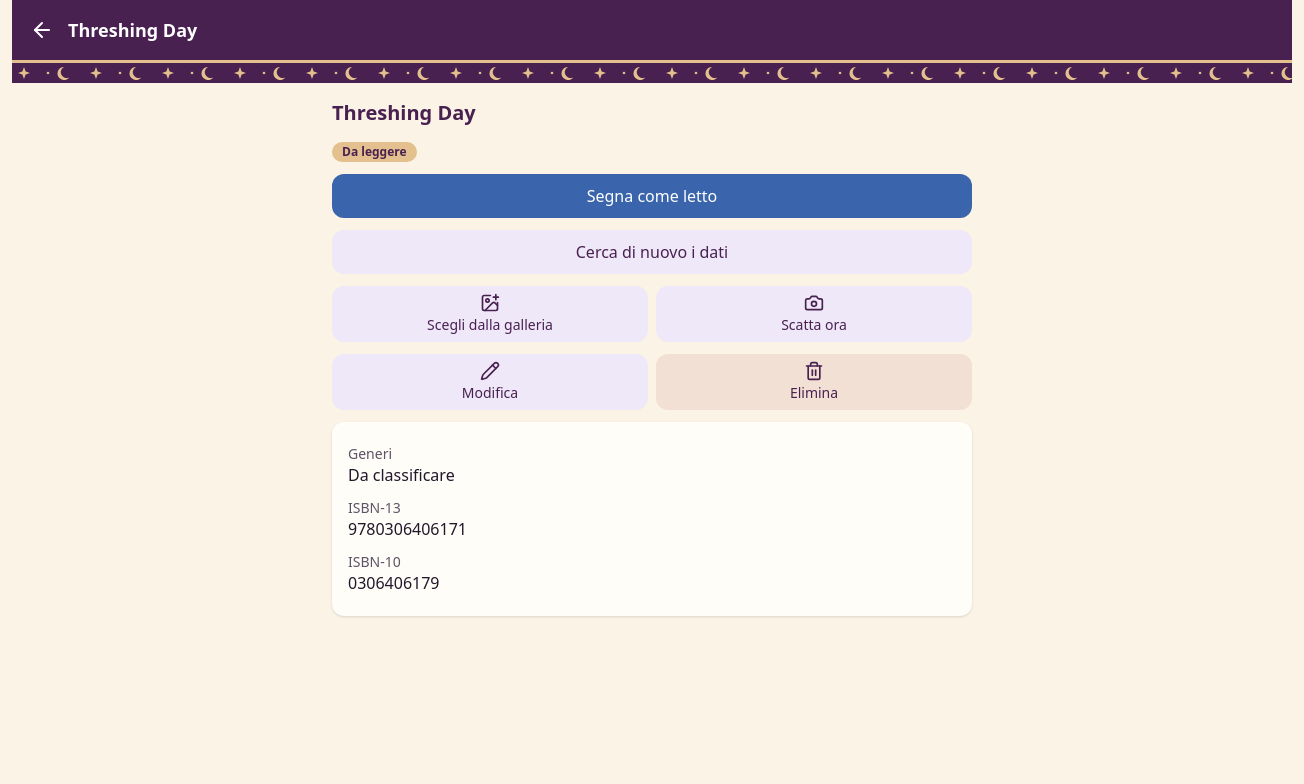
Scenario: app › dalla scheda si scelgono a mano più generi e si salvano
This screenshot has width=1304, height=784.
Click the button "Modifica" at x=490, y=382, box [332,354,648,410]
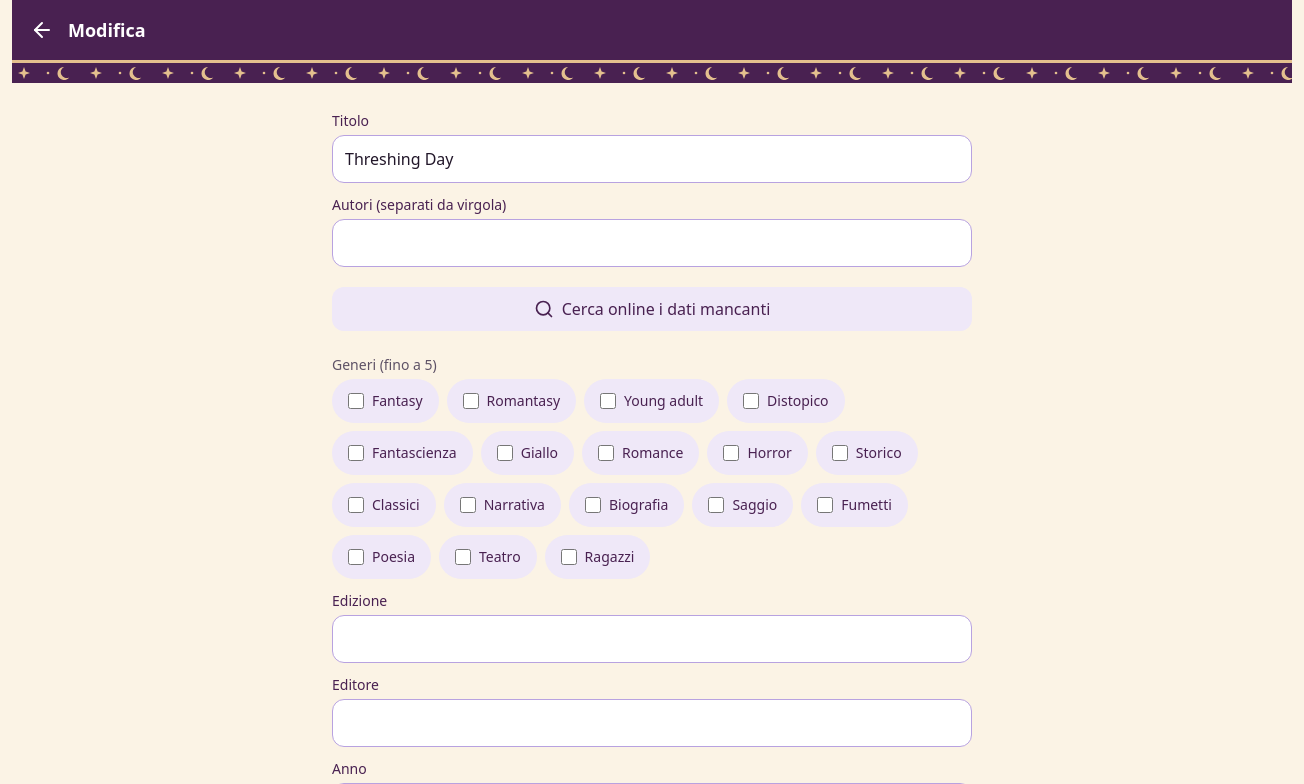
Click the checkbox labelled "Fantasy" at x=356, y=401, box [348,393,364,409]
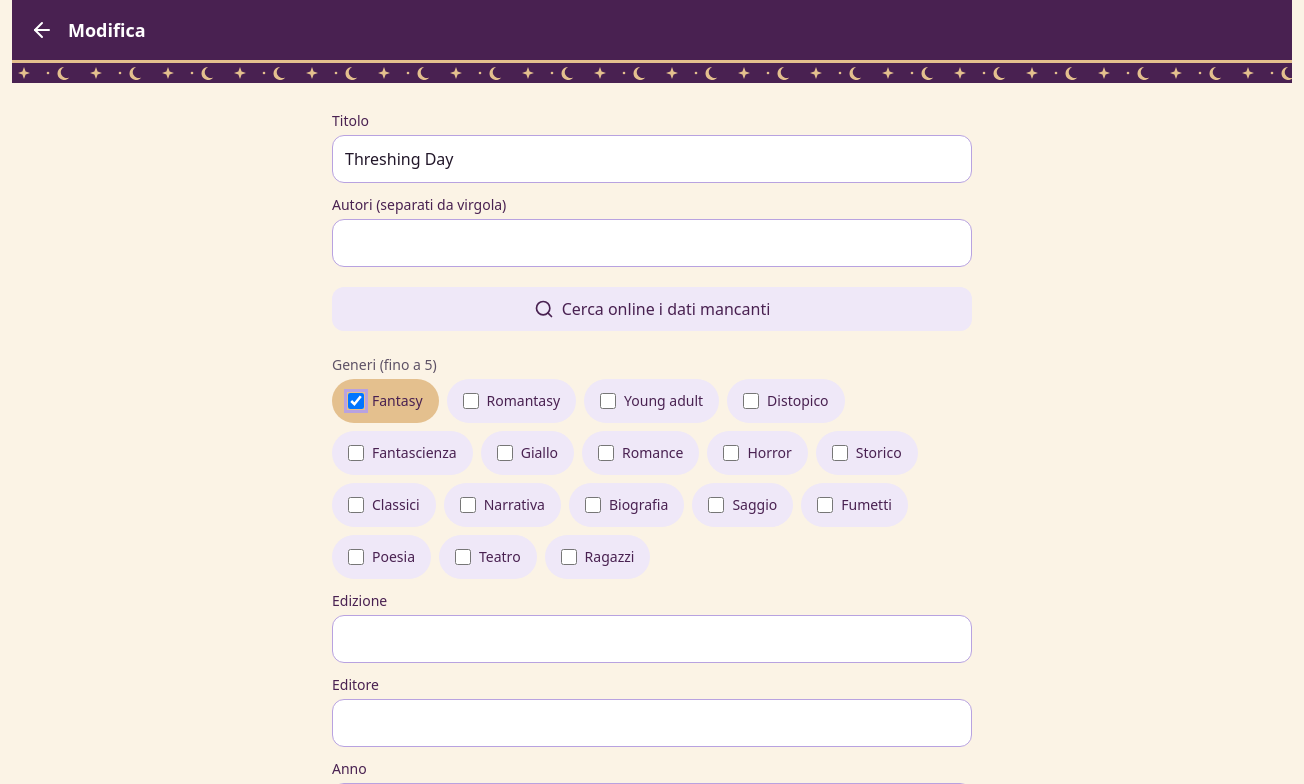
Click the checkbox labelled "Romantasy" at x=470, y=401, box [462,393,478,409]
(page scrolled)
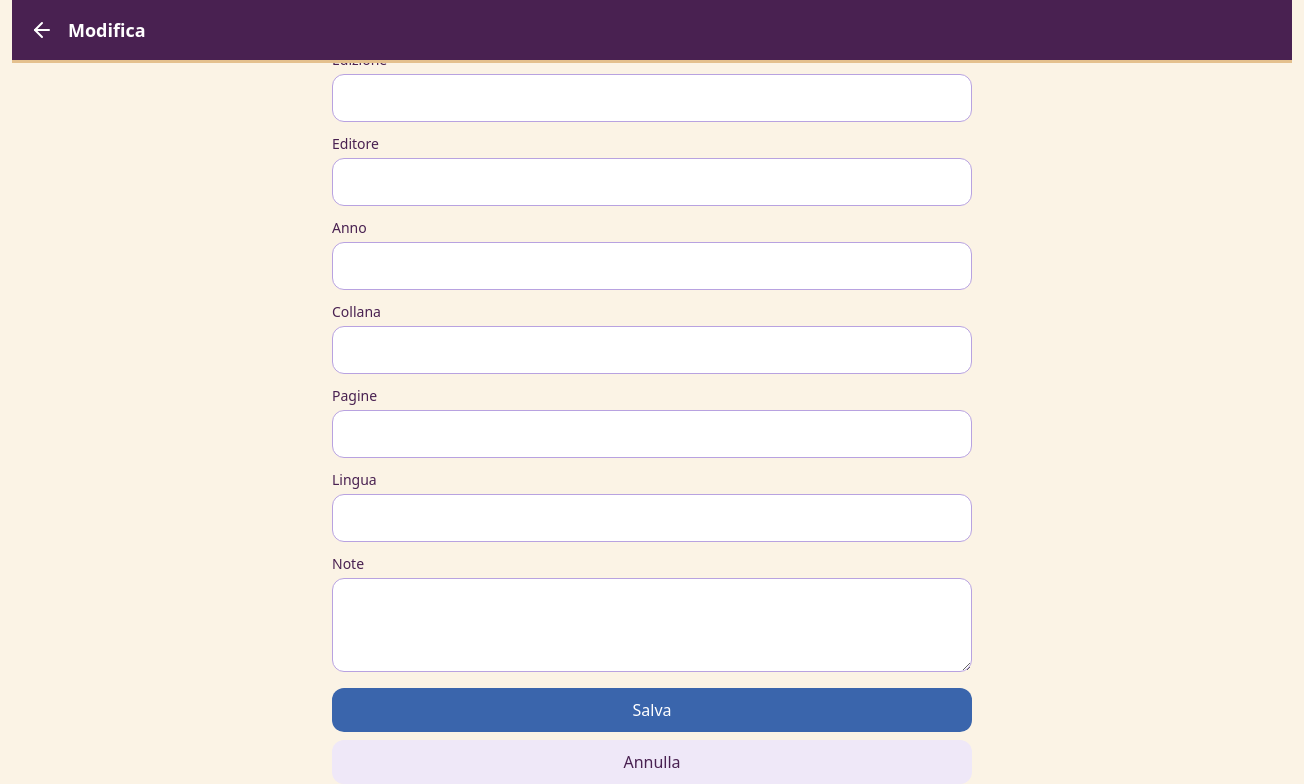
Click the button "Salva" at x=652, y=710, box [332,688,972,732]
(page scrolled)
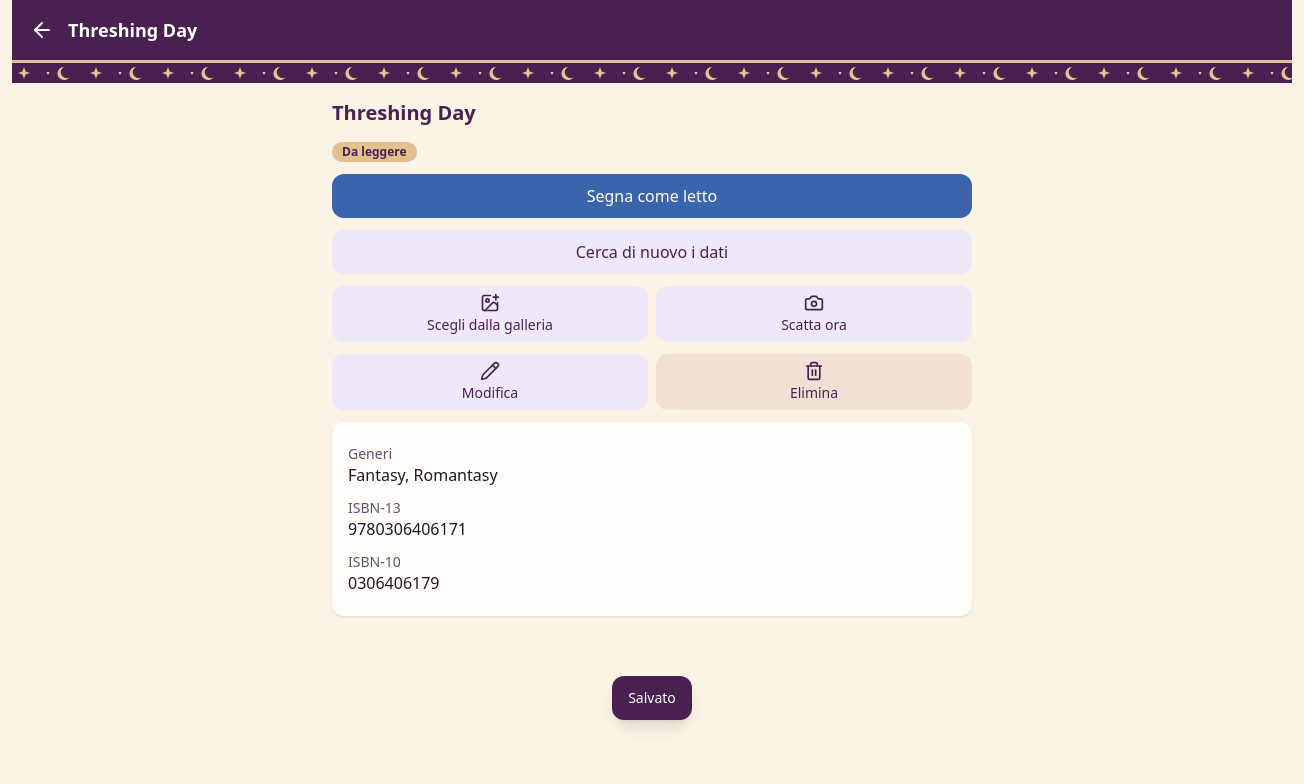
Now the text "Salvato" is shown, box [612,676,692,720]
